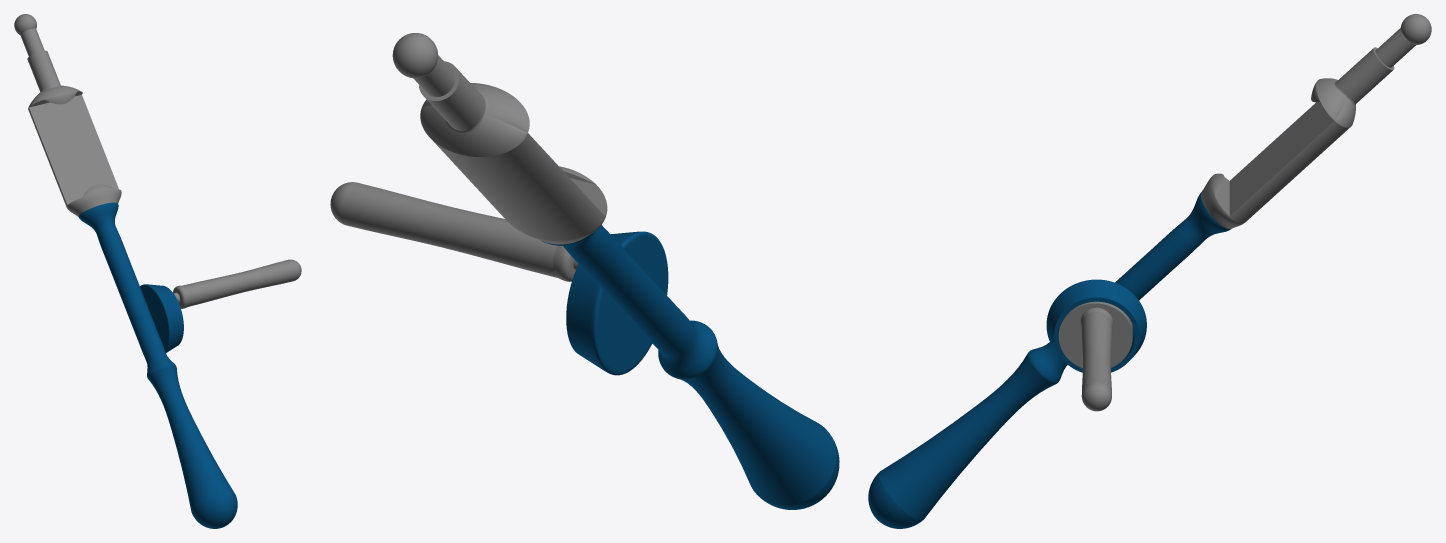
The model's file is aqua.glb.
3 renders of one model, left to right at view 1: azimuth 30°, elevation 25°; view 2: azimuth 150°, elevation 25°; view 3: azimuth 270°, elevation 25°, orthographic. The views are drawn at different scales.
Parts seen in each view (by area): view 1: diff_colour(3296B4B9-C97A-42C4-B72B-506A2C0998E4), head_action, rotate_action; view 2: diff_colour(3296B4B9-C97A-42C4-B72B-506A2C0998E4), head_action, rotate_action; view 3: diff_colour(3296B4B9-C97A-42C4-B72B-506A2C0998E4), head_action, rotate_action.
Boxes of the visible parts, x1,y1,x2,y2 form: diff_colour(3296B4B9-C97A-42C4-B72B-506A2C0998E4): (78, 202, 237, 528); head_action: (14, 14, 121, 216); rotate_action: (173, 259, 301, 308); diff_colour(3296B4B9-C97A-42C4-B72B-506A2C0998E4): (541, 225, 839, 509); head_action: (392, 33, 607, 244); rotate_action: (330, 182, 578, 281); diff_colour(3296B4B9-C97A-42C4-B72B-506A2C0998E4): (868, 192, 1230, 528); head_action: (1201, 14, 1431, 229); rotate_action: (1058, 301, 1132, 411).
Bounding box in the file's own units: 0.1565 × 0.303 × 0.303.
